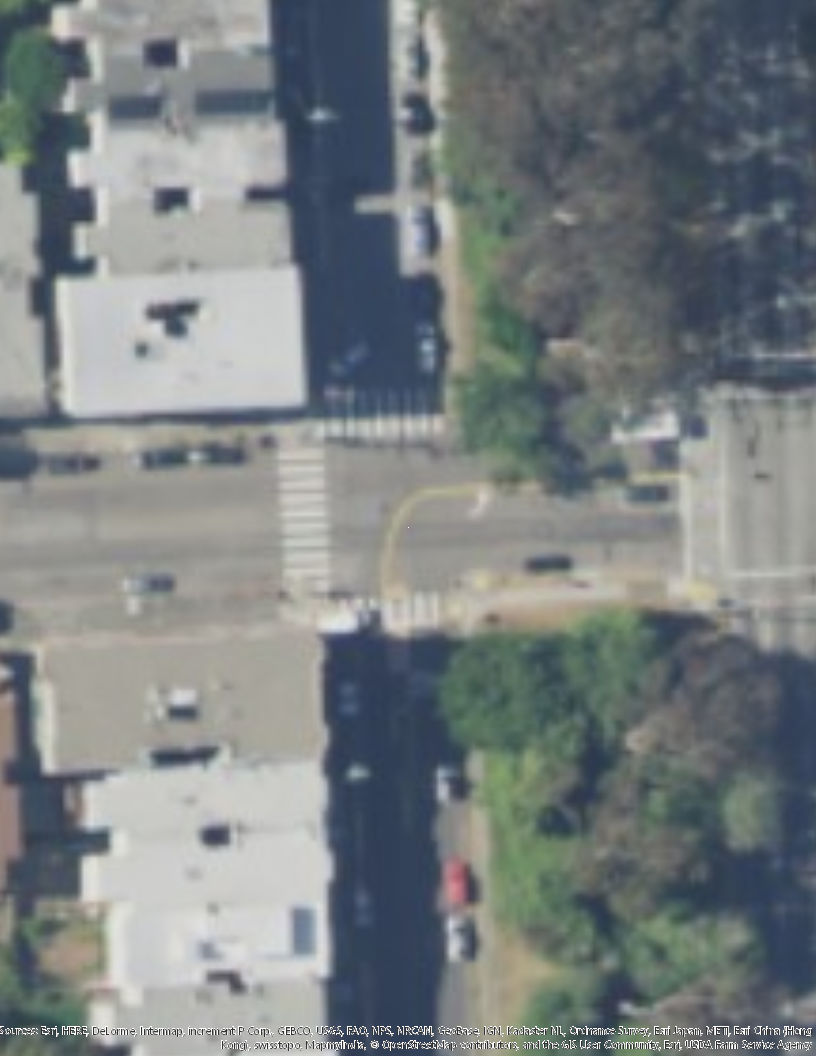zebracross: (279, 421, 328, 581), (326, 386, 443, 435), (335, 590, 465, 626)
